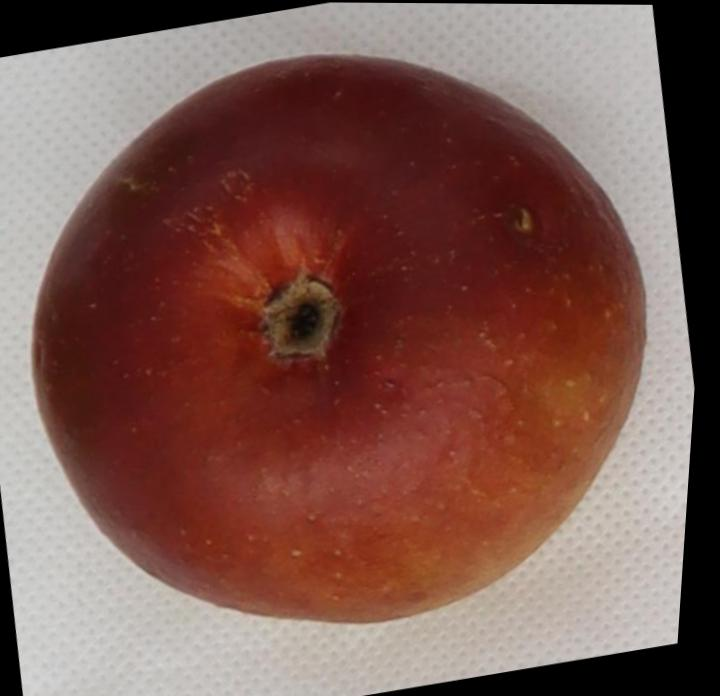apple: (34, 56, 643, 622)
surface_damage: (509, 207, 534, 234)
